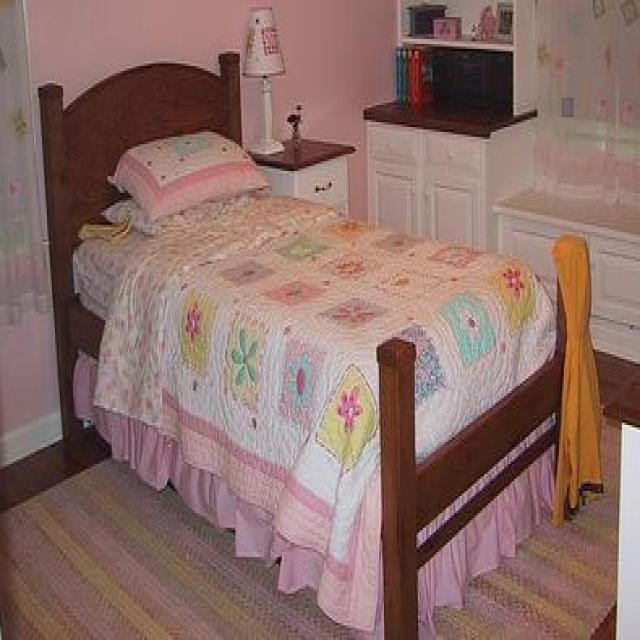bed: (36, 49, 602, 634)
